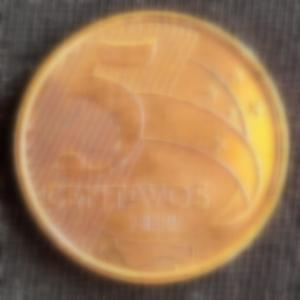5 cent: (12, 8, 290, 284)
